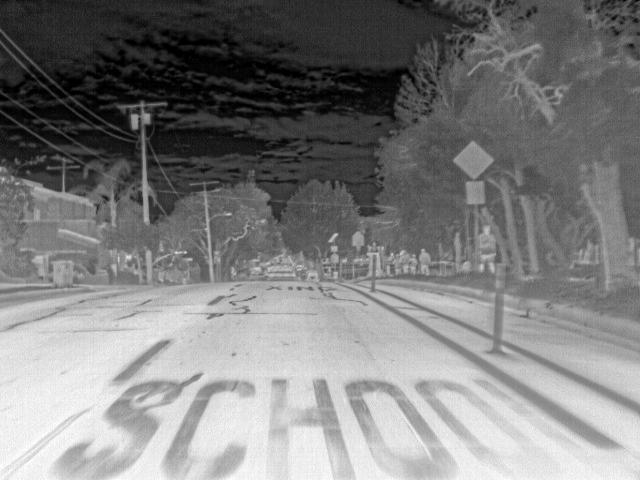car: (304, 271, 320, 283), (249, 266, 263, 276)
person: (476, 223, 499, 277), (417, 246, 433, 274), (399, 248, 412, 275), (390, 251, 403, 277), (409, 252, 421, 277)
